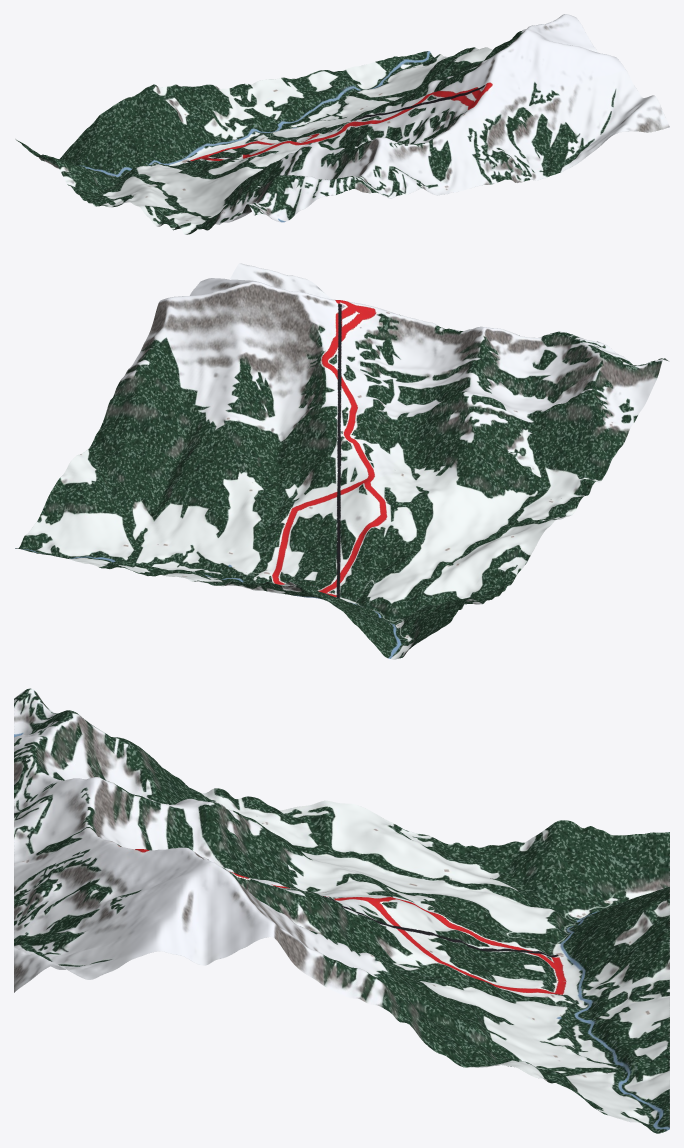
3 views of the same model, one above another, from view 1: azimuth 30°, elevation 25°; view 2: azimuth 150°, elevation 25°; view 3: azimuth 270°, elevation 25° (orthographic). The views are drawn at different scales.
Visible parts, largest first — view 1: C3_Hochgrat.glb; view 2: C3_Hochgrat.glb; view 3: C3_Hochgrat.glb.
Boxes of the visible parts, x1,y1,x2,y2 form: C3_Hochgrat.glb: (15,14,669,234); C3_Hochgrat.glb: (15,263,669,659); C3_Hochgrat.glb: (14,688,669,1133).
Size of the model in its own units: 3067 by 1268 by 3067.
Materials: 1 (1 with a texture image).
